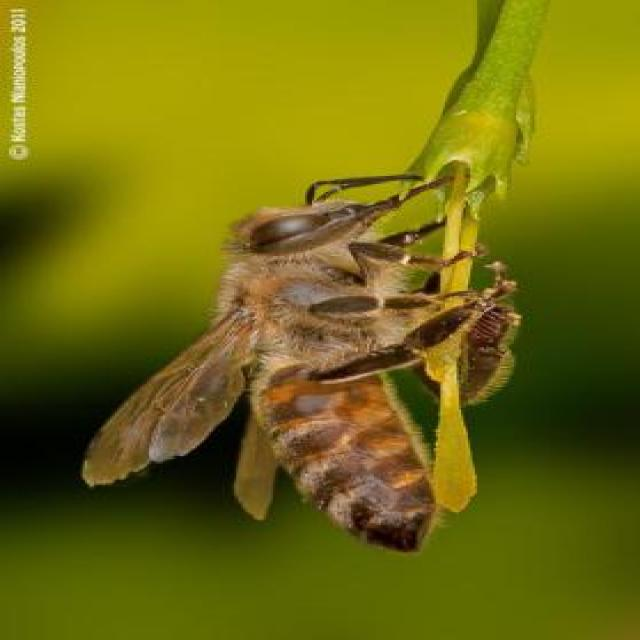antennae: (301, 169, 423, 205), (312, 178, 410, 205)
body: (223, 202, 448, 551)
insect: (81, 157, 523, 554)
legs: (311, 284, 511, 383), (403, 306, 512, 402), (311, 244, 489, 282), (314, 288, 476, 323), (371, 217, 459, 249)
mouthpart: (349, 174, 464, 232)
wings: (84, 294, 264, 485), (236, 413, 282, 534)
